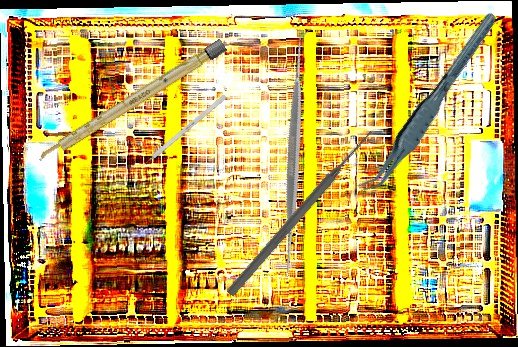Hook Surgical: (134, 94, 228, 173)
Pusher: (224, 127, 377, 299)
Scalpel Handle: (35, 38, 228, 166)
Spatula Surgical: (170, 29, 419, 279)
Tissue Forceps: (341, 10, 518, 200)
